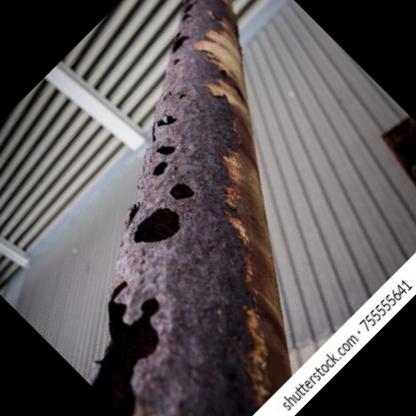burst: (87, 260, 181, 404), (120, 152, 194, 251)
